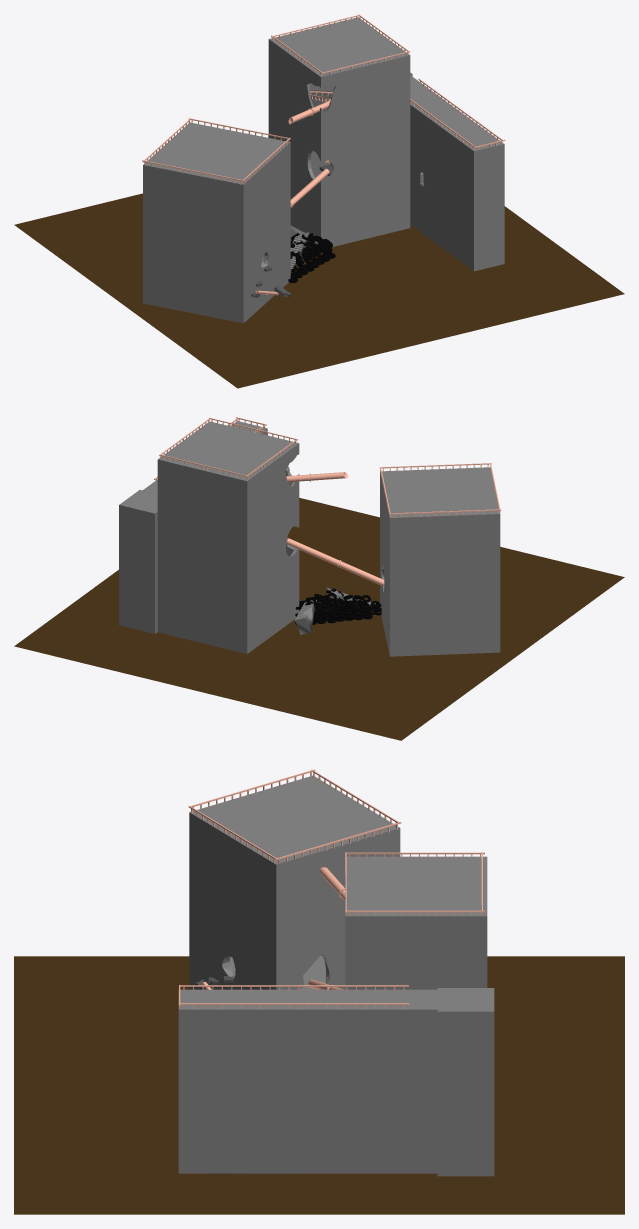
File: stage1.fbx
3 views of the same model, one above another, from view 1: azimuth 30°, elevation 25°; view 2: azimuth 150°, elevation 25°; view 3: azimuth 270°, elevation 25° (orthographic). The views are drawn at different scales.
Parts seen in each view (by area): view 1: ground, house3, house2, house1, tirefire; view 2: ground, house3, house2, start, tirefire, bigpipe, separatestair.001, house1; view 3: ground, house1, house2, house3, start.
Part boxes in pixels (x1=…): ground: x1=14, y1=193, x2=624, y2=388; house3: x1=268, y1=14, x2=410, y2=246; house2: x1=142, y1=118, x2=290, y2=323; house1: x1=410, y1=75, x2=505, y2=271; tirefire: x1=288, y1=233, x2=335, y2=283; ground: x1=14, y1=498, x2=624, y2=740; house3: x1=157, y1=417, x2=299, y2=653; house2: x1=379, y1=463, x2=501, y2=656; start: x1=119, y1=490, x2=157, y2=633; tirefire: x1=295, y1=588, x2=381, y2=624; bigpipe: x1=286, y1=538, x2=384, y2=586; separatestair.001: x1=295, y1=587, x2=375, y2=634; house1: x1=142, y1=417, x2=267, y2=494; ground: x1=14, y1=956, x2=624, y2=1214; house1: x1=178, y1=985, x2=438, y2=1173; house2: x1=188, y1=769, x2=401, y2=989; house3: x1=345, y1=852, x2=487, y2=989; start: x1=437, y1=988, x2=494, y2=1176.
Bounding box in the file's own units: 14284 × 6527 × 14284.
